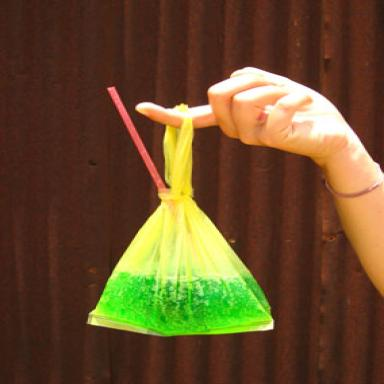plasticbag: (84, 101, 276, 336)
